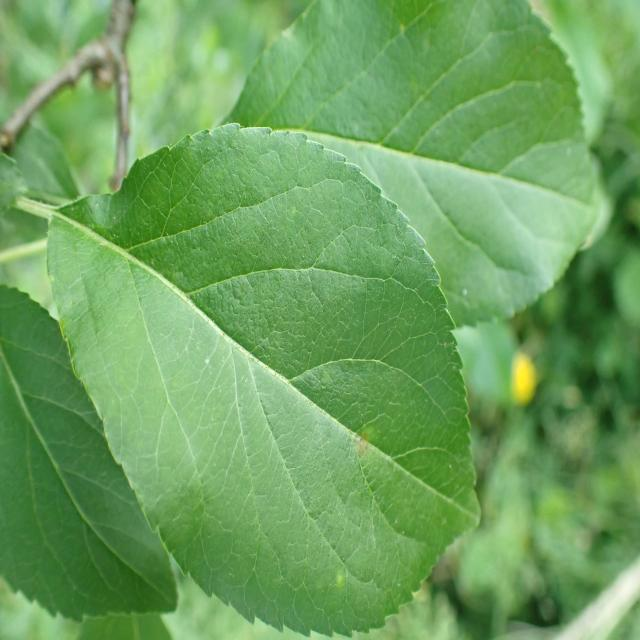scab: (114, 221, 424, 625)
